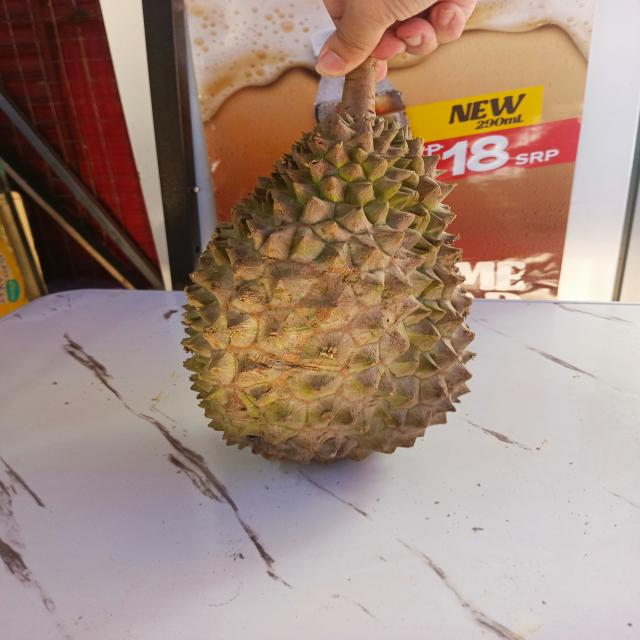mature: (197, 13, 548, 444)
